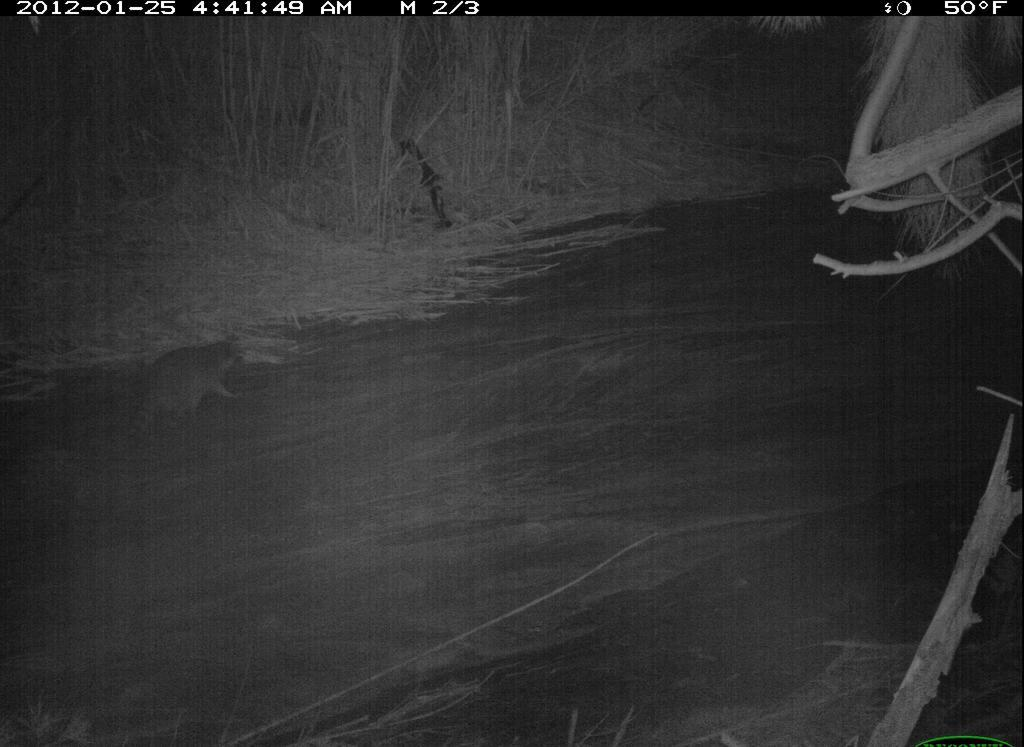raccoon: (121, 319, 248, 436)
